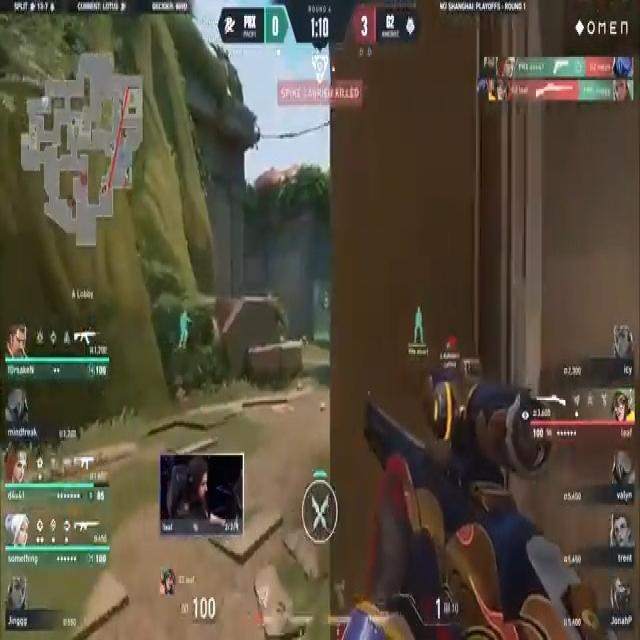ally behind wall: (413, 301, 425, 351), (177, 308, 190, 353)
